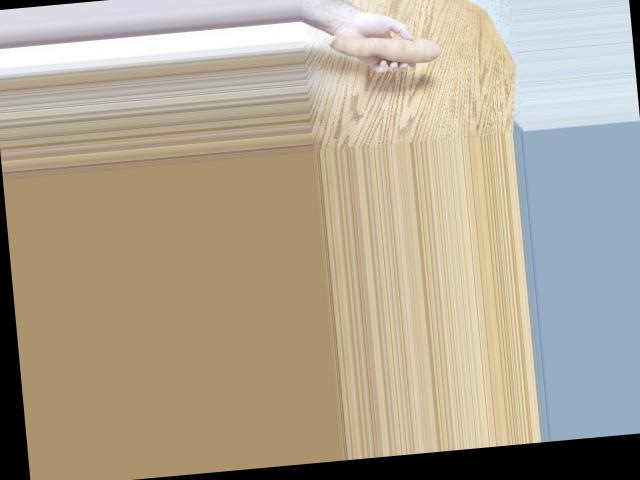sweet_potato: (334, 25, 442, 77)
